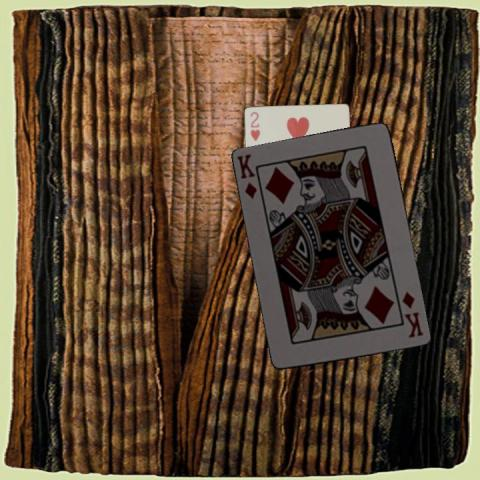2h: (248, 109, 261, 142)
Kd: (400, 289, 426, 339), (234, 151, 259, 200)
